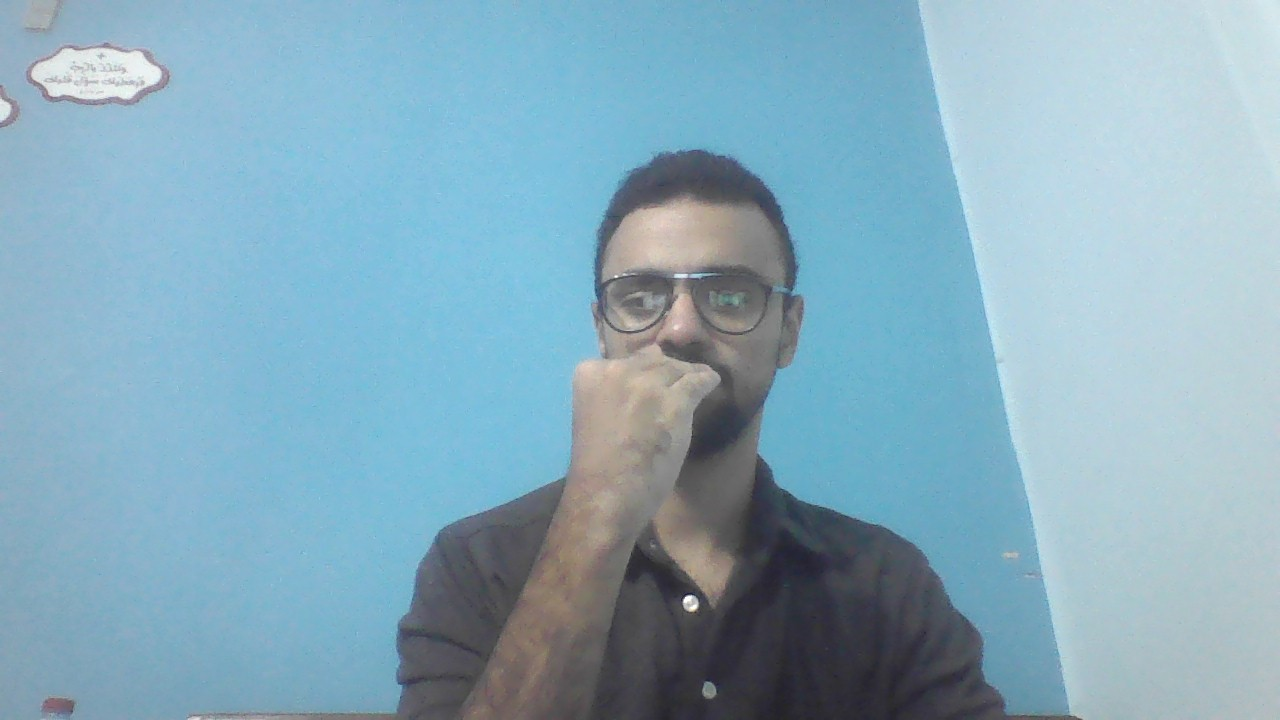eat: (562, 349, 722, 513)
